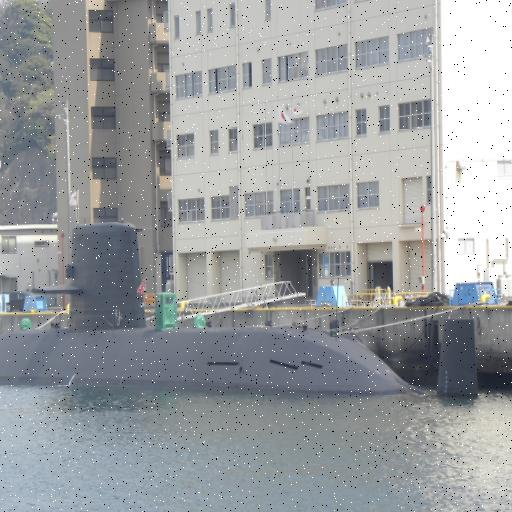submarine: (1, 207, 497, 389)
